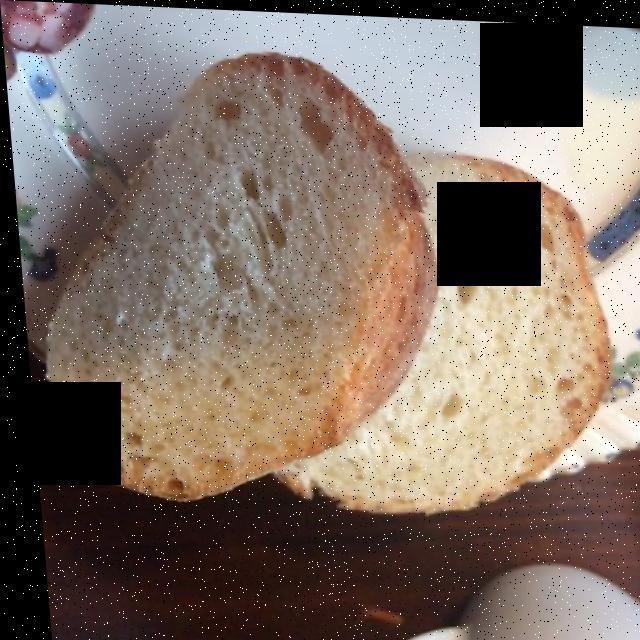bread: (41, 54, 601, 509)
